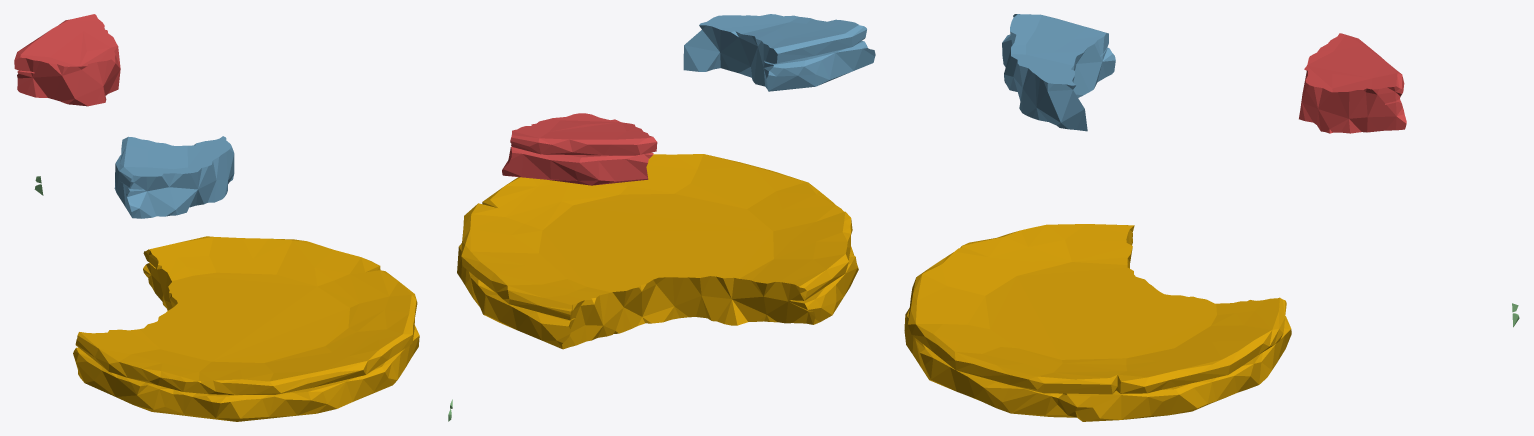
Rendered from fractured_42_4pcs_transformed.glb.
3 renders of one model, left to right at view 1: azimuth 30°, elevation 25°; view 2: azimuth 150°, elevation 25°; view 3: azimuth 270°, elevation 25°, orthographic. The views are drawn at different scales.
Visible parts, largest first — view 1: piece_0.obj, piece_2.obj, piece_1.obj; view 2: piece_0.obj, piece_2.obj, piece_1.obj; view 3: piece_0.obj, piece_2.obj, piece_1.obj.
Part boxes in pixels (x1=…): piece_0.obj: x1=73, y1=236, x2=419, y2=421; piece_2.obj: x1=114, y1=136, x2=234, y2=218; piece_1.obj: x1=14, y1=14, x2=120, y2=106; piece_0.obj: x1=457, y1=154, x2=858, y2=349; piece_2.obj: x1=683, y1=14, x2=875, y2=91; piece_1.obj: x1=502, y1=113, x2=657, y2=185; piece_0.obj: x1=904, y1=224, x2=1291, y2=421; piece_2.obj: x1=1002, y1=14, x2=1115, y2=131; piece_1.obj: x1=1299, y1=33, x2=1406, y2=133.
Size of the model in its own units: 1 by 0.7463 by 1.58.
